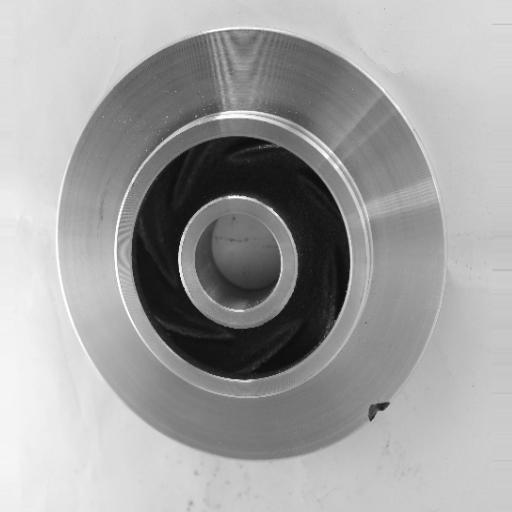crack: (358, 395, 394, 427)
unpolished_casting: (58, 25, 444, 464)
